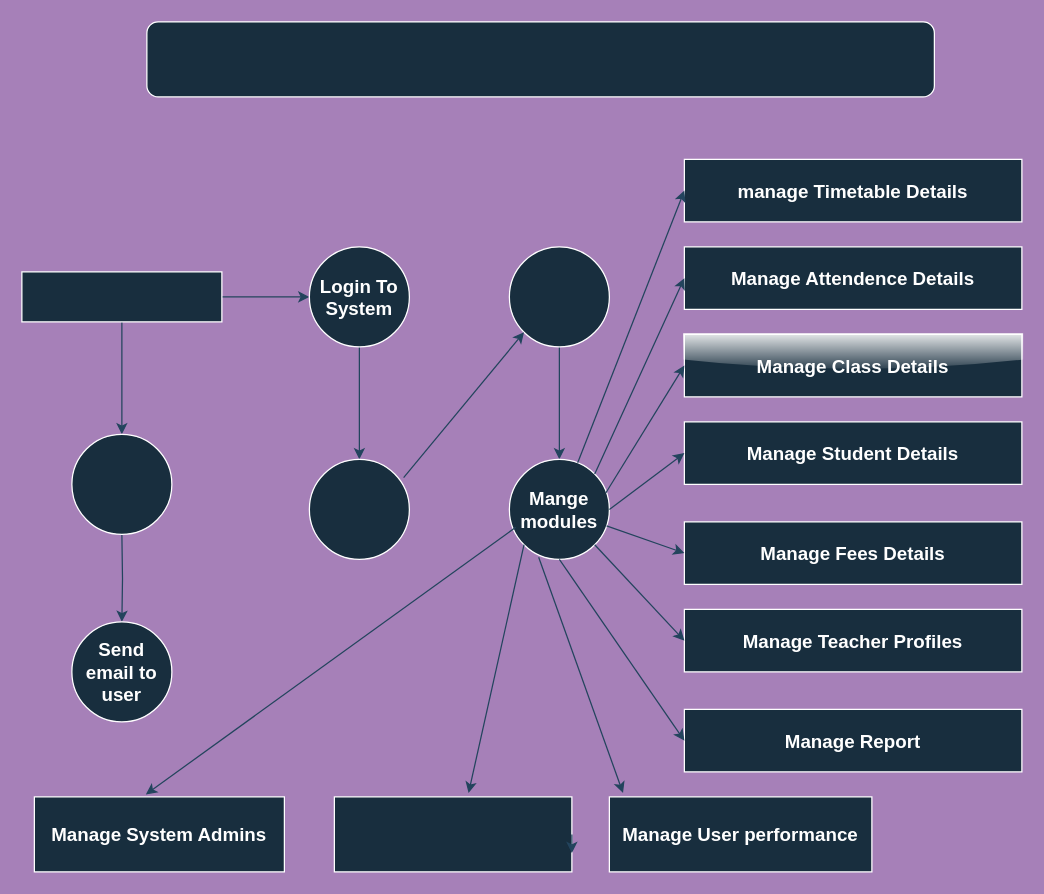
The diagram is 1044 pixels wide and 894 high, and some of its shapes have lost their labels. Each missing label, with the centre of its shape:
"Admin" goes at [121,296].
"Check credentials" goes at [358,508].
"Check Roles of Access" goes at [558,296].
"Forgot Password" goes at [121,483].
"Manage Roles of user" goes at [452,834].
"Student Information System" goes at [540,59].
